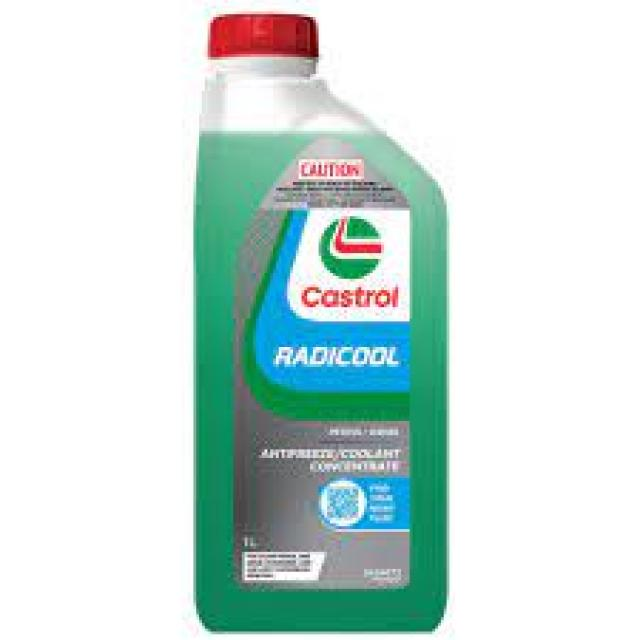coolant: (189, 2, 450, 640)
